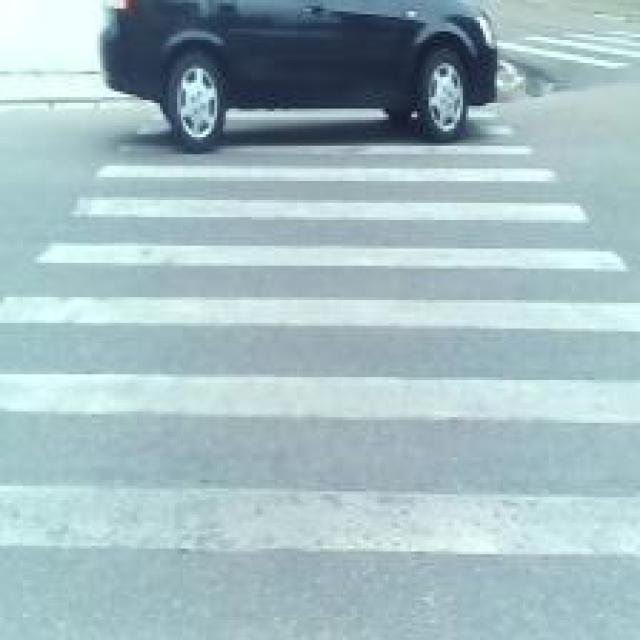zebra: (97, 155, 566, 640)
